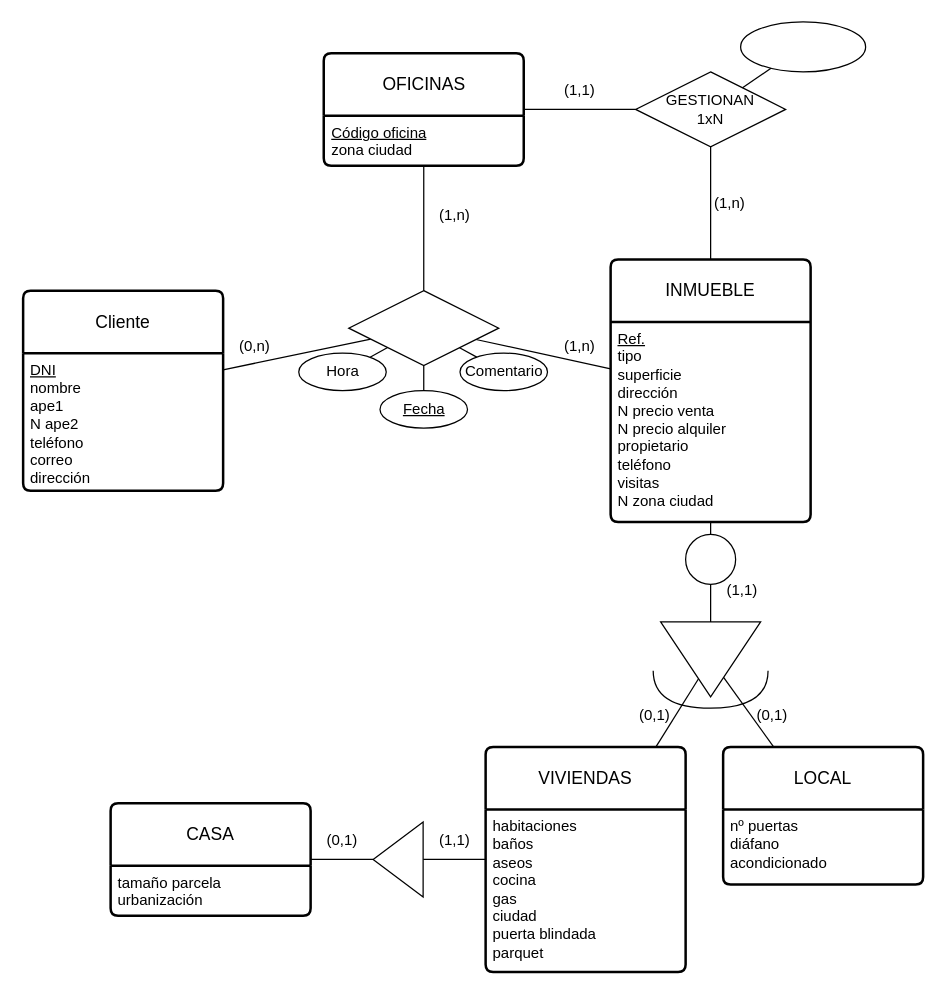
This 945x995 diagram has some shape labels left out. Each missing label, with the centre of its shape:
"Llaves de inmuebles" belongs at (802,46).
"VISITA NxMxN" belongs at (423,327).
